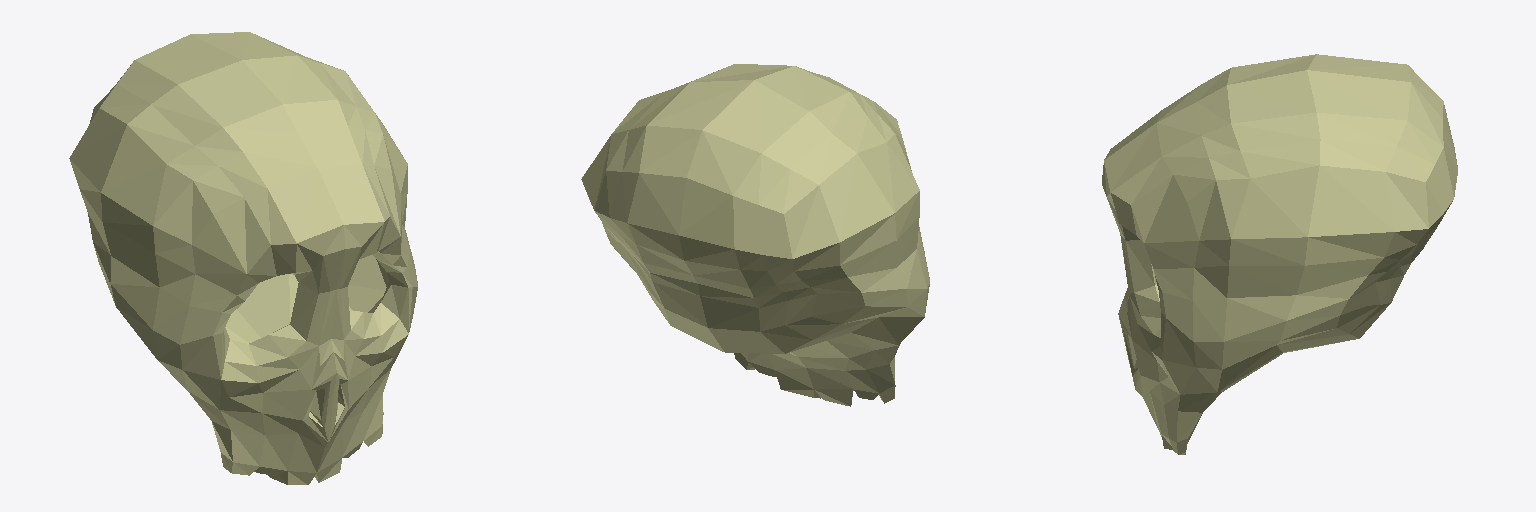
Rendered from skull1.obj.
The picture shows the model from 3 angles: view 1: azimuth 30°, elevation 25°; view 2: azimuth 150°, elevation 25°; view 3: azimuth 270°, elevation 25°; orthographic projection.
Parts seen in each view (by area): view 1: skull1; view 2: skull1; view 3: skull1.
Part boxes in pixels (x1,y1,x2,y2): skull1: (69, 32, 417, 484); skull1: (581, 64, 929, 406); skull1: (1102, 54, 1457, 454).
Size of the model in its own units: 1.52 by 1.9 by 1.65.